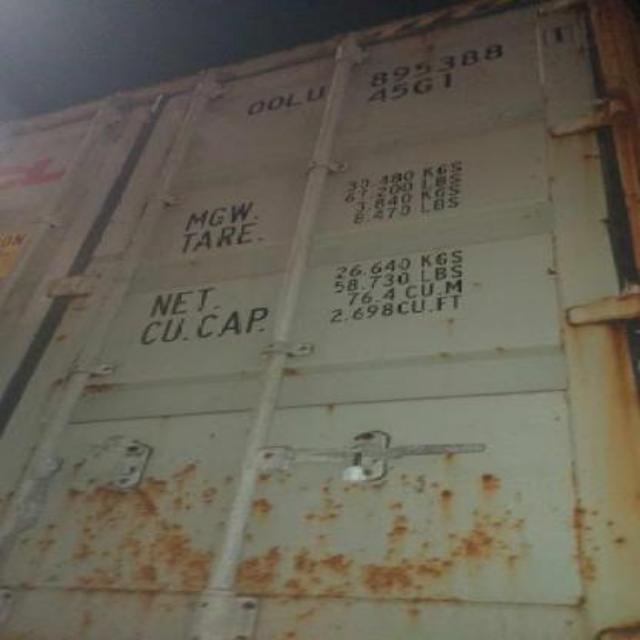1: (544, 22, 578, 48)
3: (434, 47, 462, 73)
5: (406, 56, 434, 76)
8: (480, 38, 510, 66), (458, 42, 479, 72), (368, 66, 388, 90)
9: (384, 62, 410, 82)
L: (282, 86, 302, 114)
O: (256, 89, 288, 115), (234, 93, 262, 117)
U: (302, 81, 326, 102)
